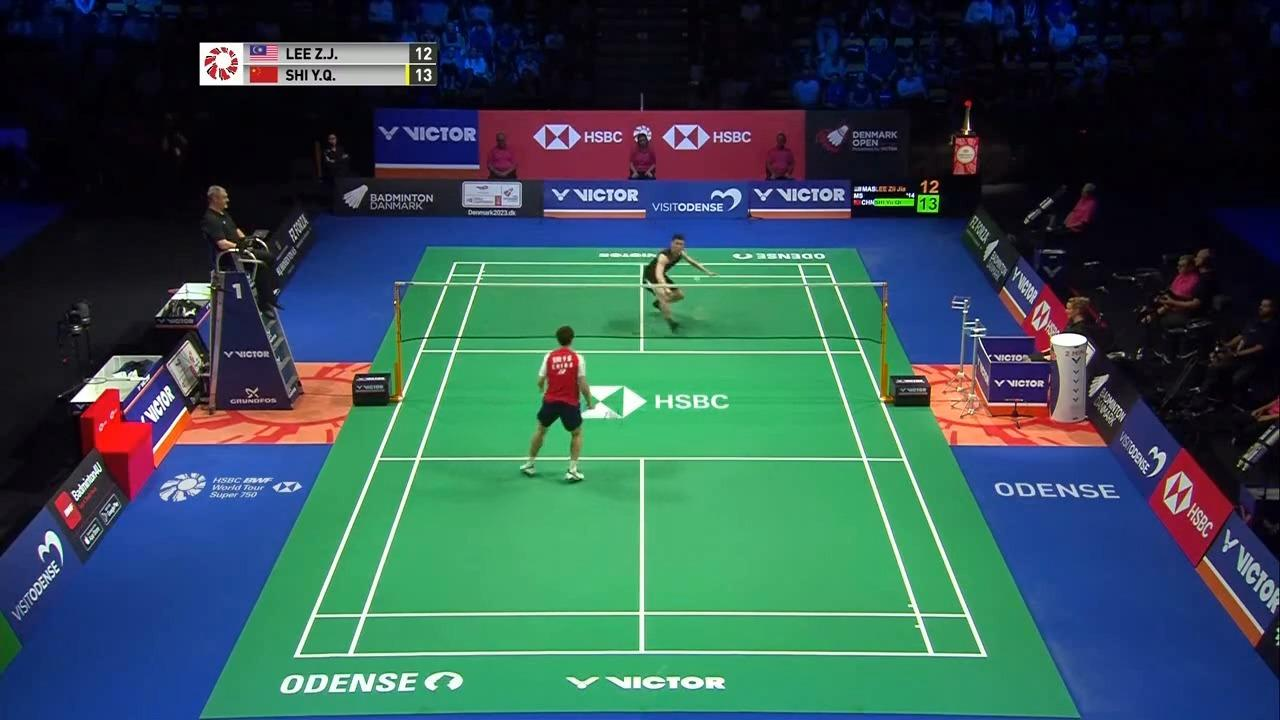shuttle: (693, 273, 702, 284)
